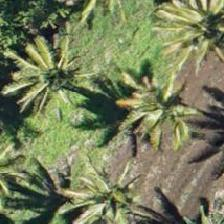coconut_tree: (96, 55, 186, 145), (0, 43, 86, 133), (58, 167, 148, 223), (156, 0, 223, 65)
